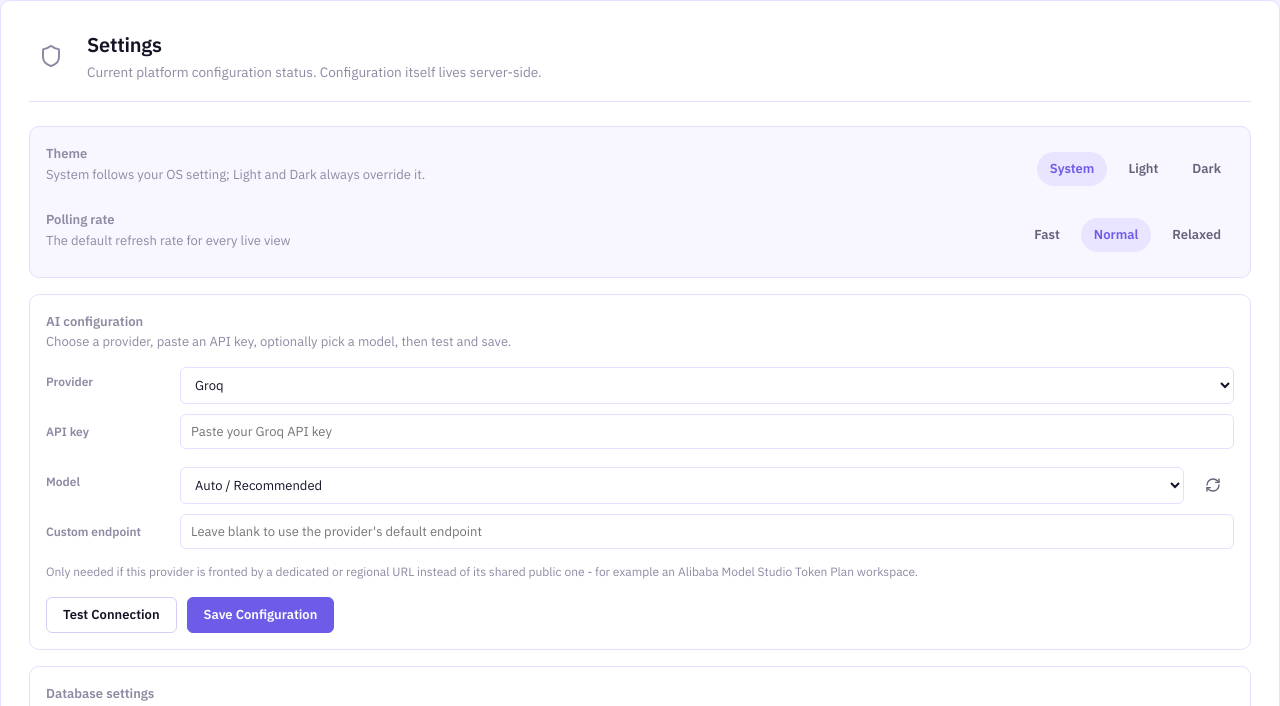
Scenario: SettingsPage > AI configuration › Test Connection reports a failure without exposing the typed key anywhere on the page
This screenshot has width=1280, height=706.
Type "gsk_super_secret_value" into the password field labelled "API key" at x=707, y=431, box [180,414,1234,448]
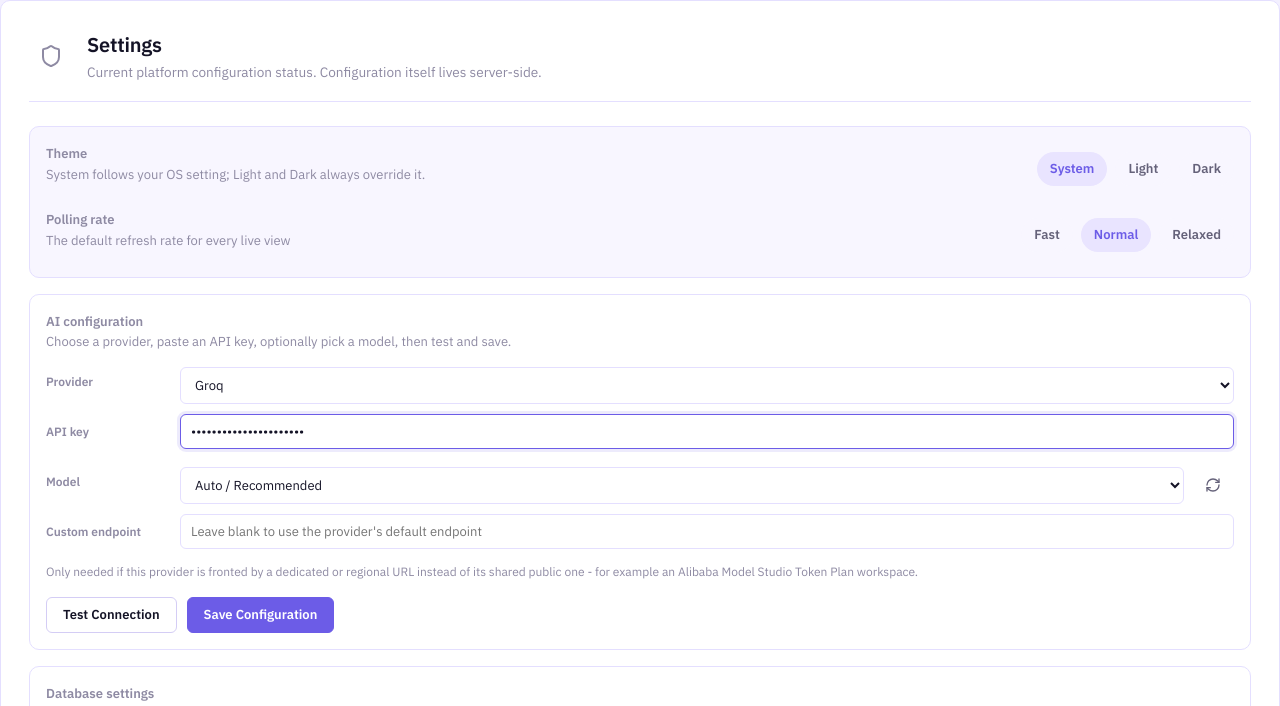
Click the button "Test Connection" at x=111, y=615, box [46,597,176,633]
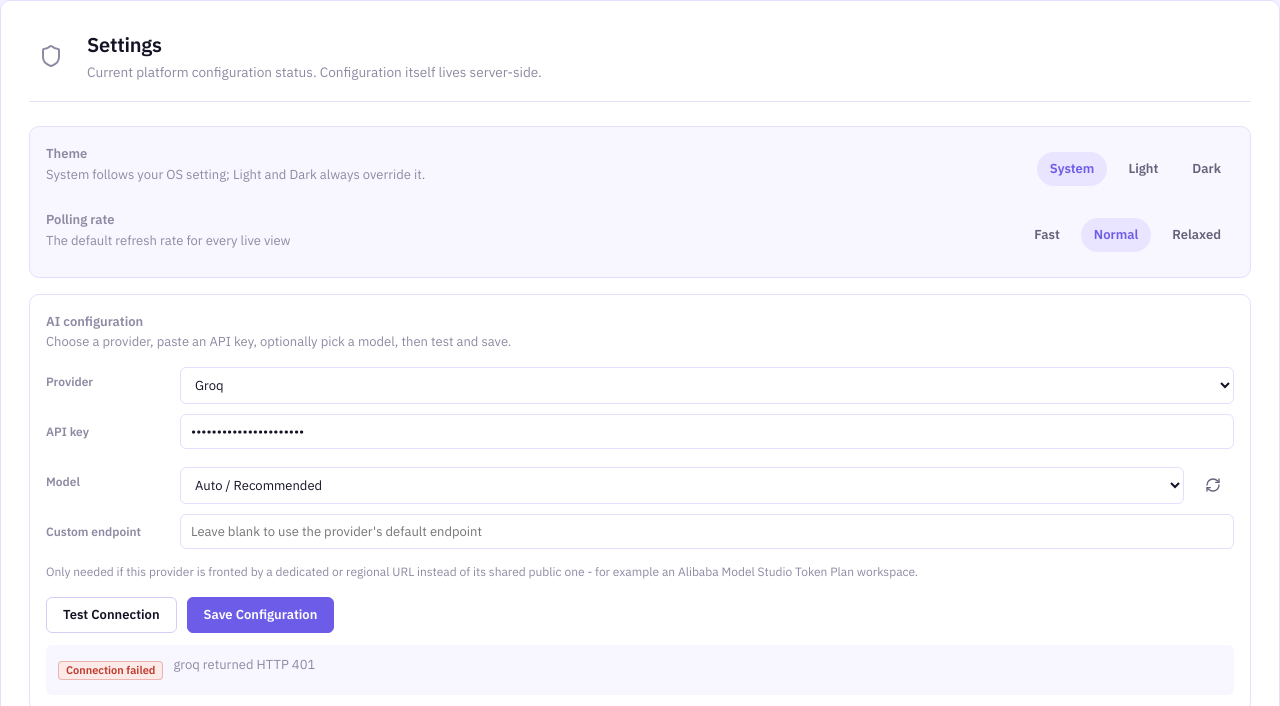
Now the text "Connection failed" is shown, box [58,660,163,680]
